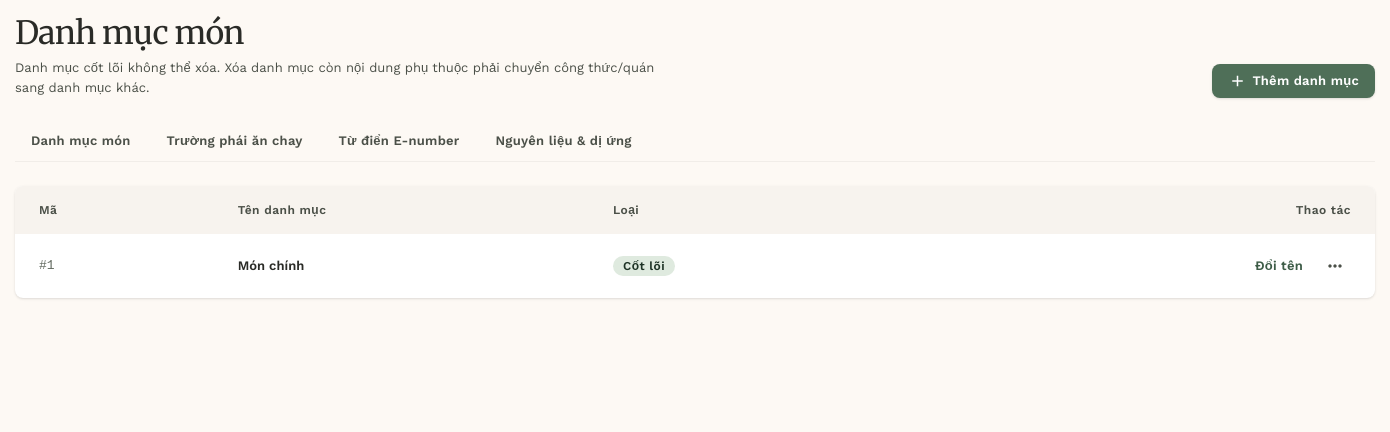
Test: Quản lý danh mục món ăn (SCR-36) › danh mục cốt lõi bị vô hiệu hóa nút xóa
Expected: the text "Món chính" is shown, [222,234,597,298]
Click the button named "Thao tác khác": coordinates (1335, 266) [1319,250,1351,282]
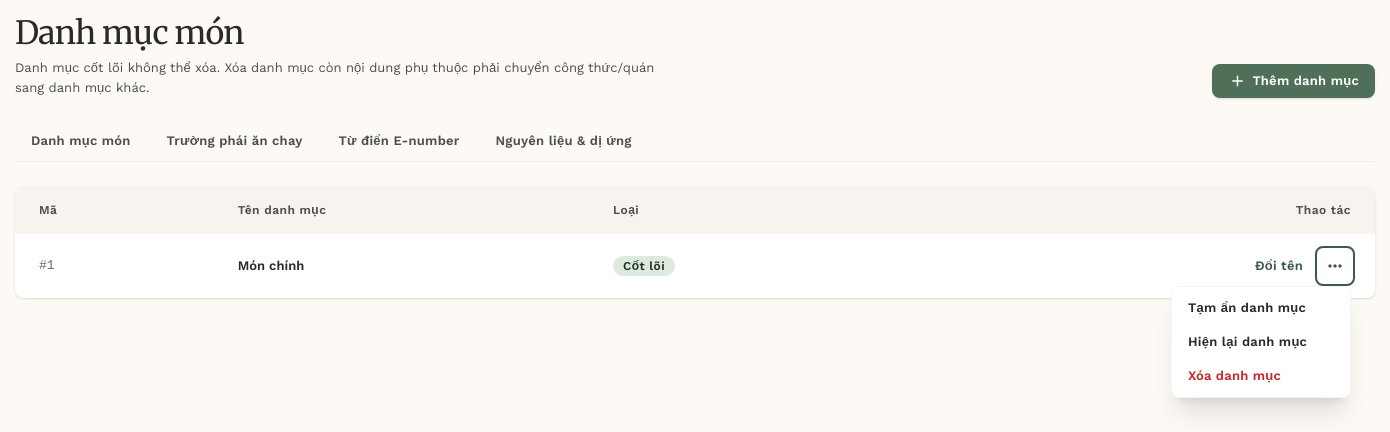
Now the menu item "Xóa danh mục" is disabled, box [1172,359,1350,393]
